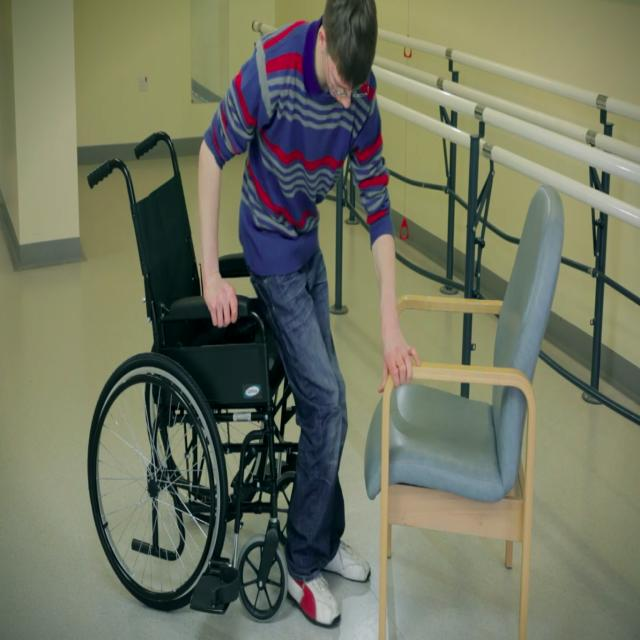wheelchairs: (87, 130, 328, 622)
